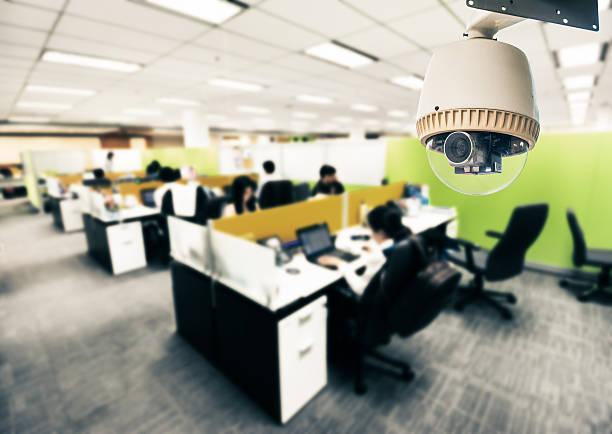camera: (386, 7, 573, 223)
